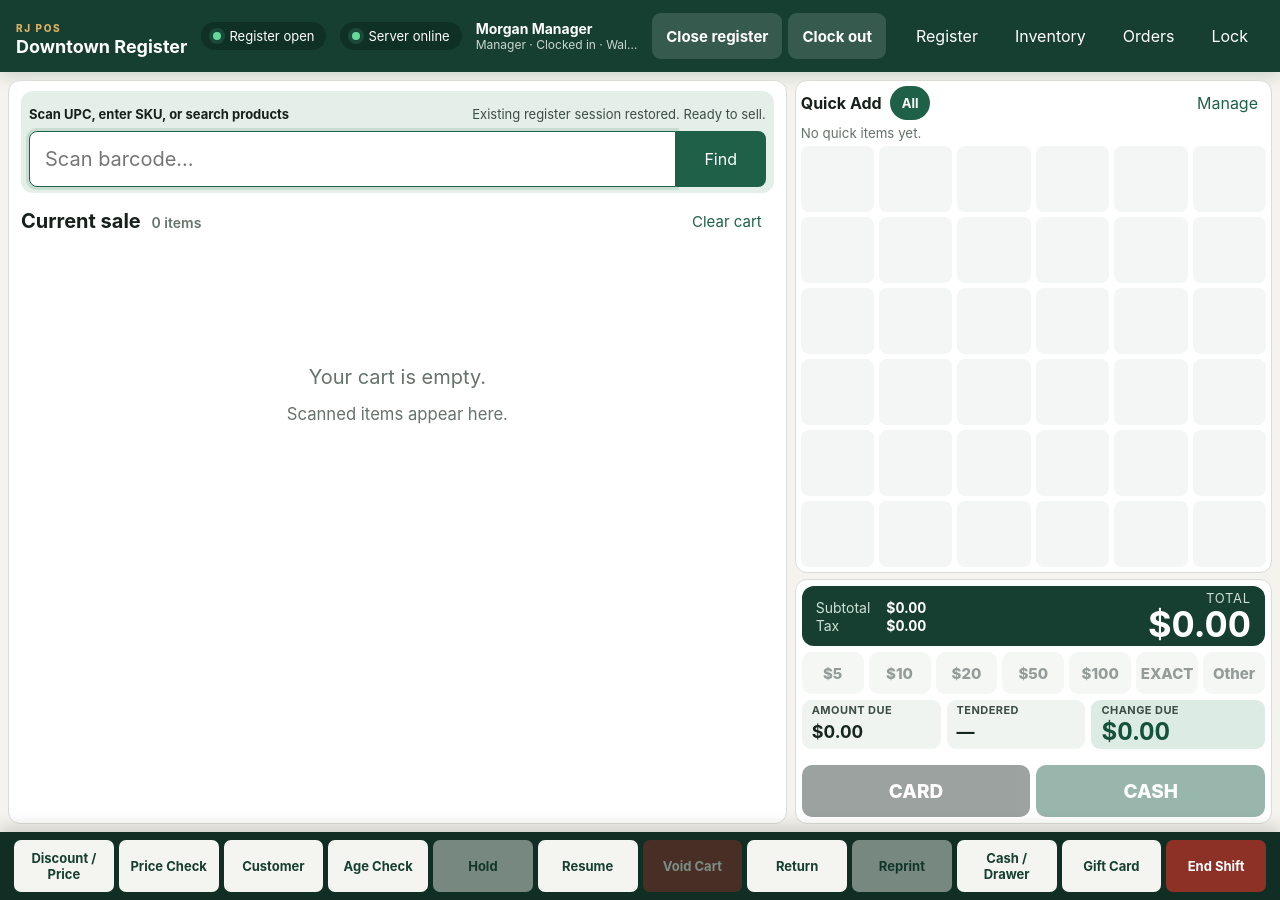
Scenario: PIN sign-in and sign-out › lets a signed-in manager use privileged actions without a second PIN prompt
Click the button "Return" at (797, 866), box [747, 840, 847, 892]
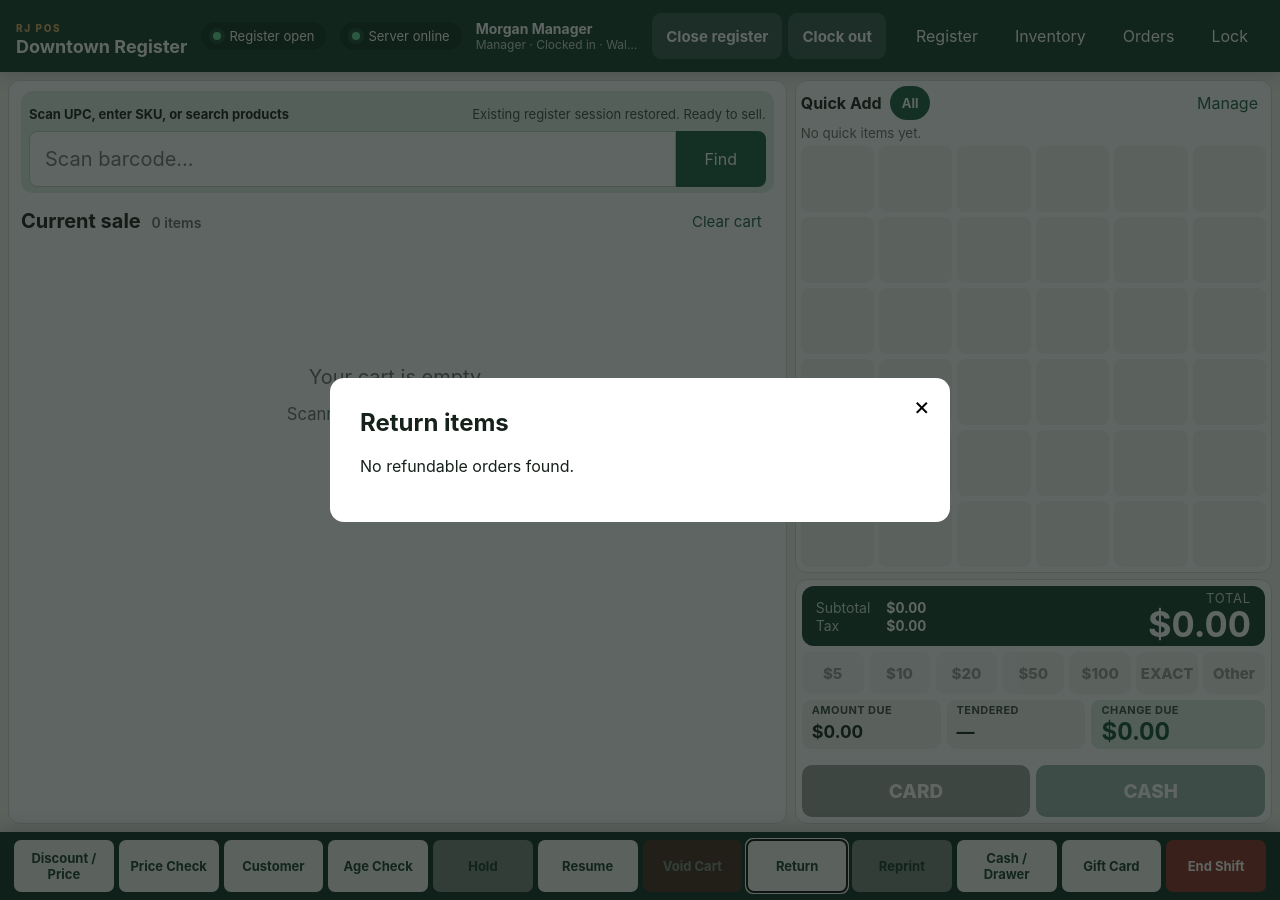
expect the heading "Return items" is shown: met, box [360, 408, 509, 436]
